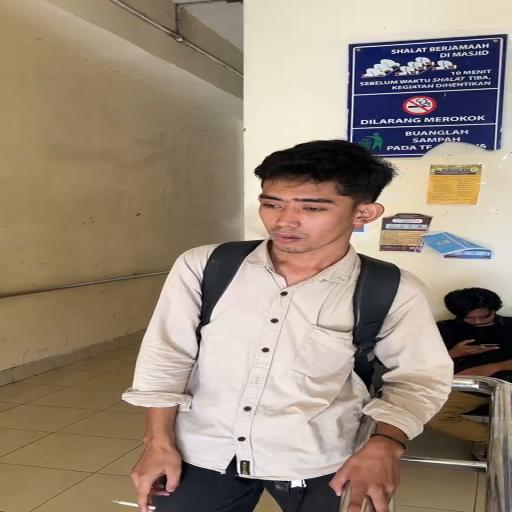pegang rokok: (89, 434, 189, 512)
